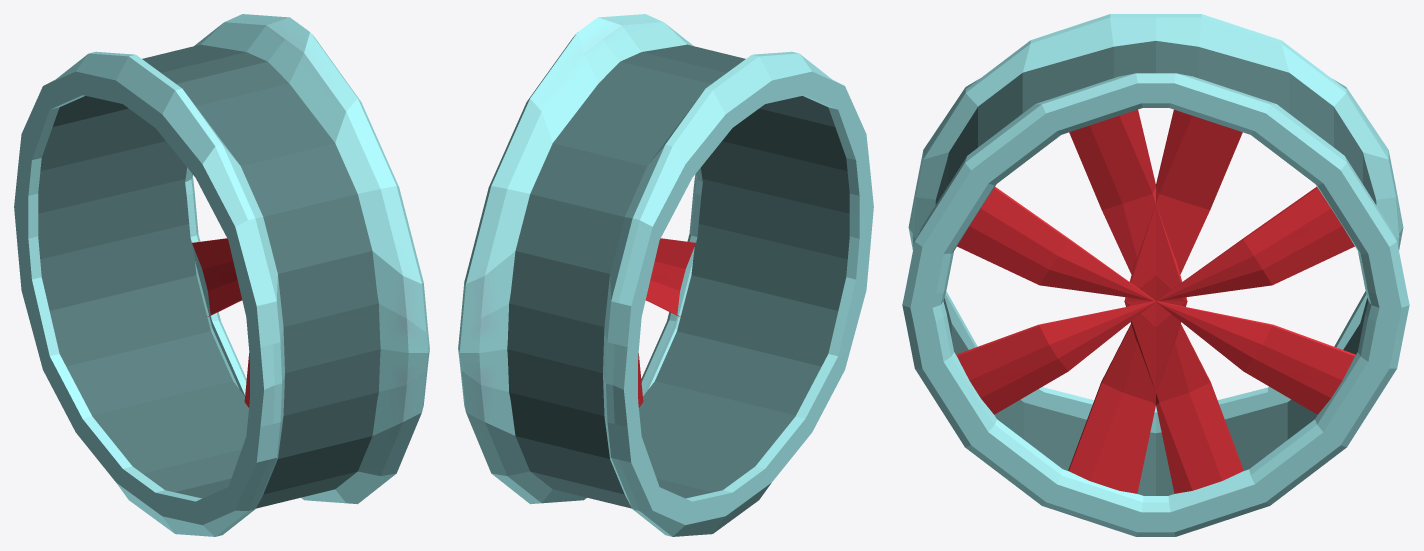
File: WhRIN.fbx
3 renders of one model, left to right at view 1: azimuth 30°, elevation 25°; view 2: azimuth 150°, elevation 25°; view 3: azimuth 270°, elevation 25°, orthographic.
Visible parts, largest first — view 1: Rin; view 2: Rin; view 3: Rin.
Boxes of the visible parts, <box> form: Rin: <box>14,14,429,536</box>; Rin: <box>458,14,873,536</box>; Rin: <box>902,14,1409,536</box>.
Size of the model in its own units: 64.98 by 175 by 173.
